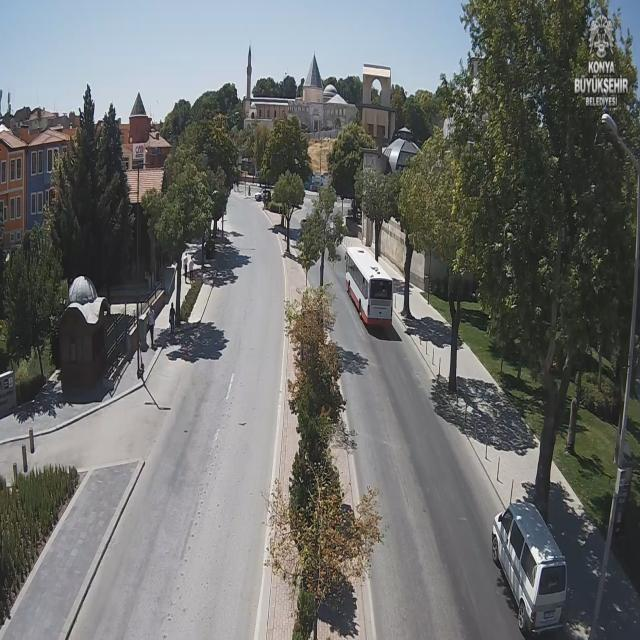Bus: (343, 246, 394, 330)
Car: (254, 189, 271, 202)
Van: (491, 502, 569, 637)
